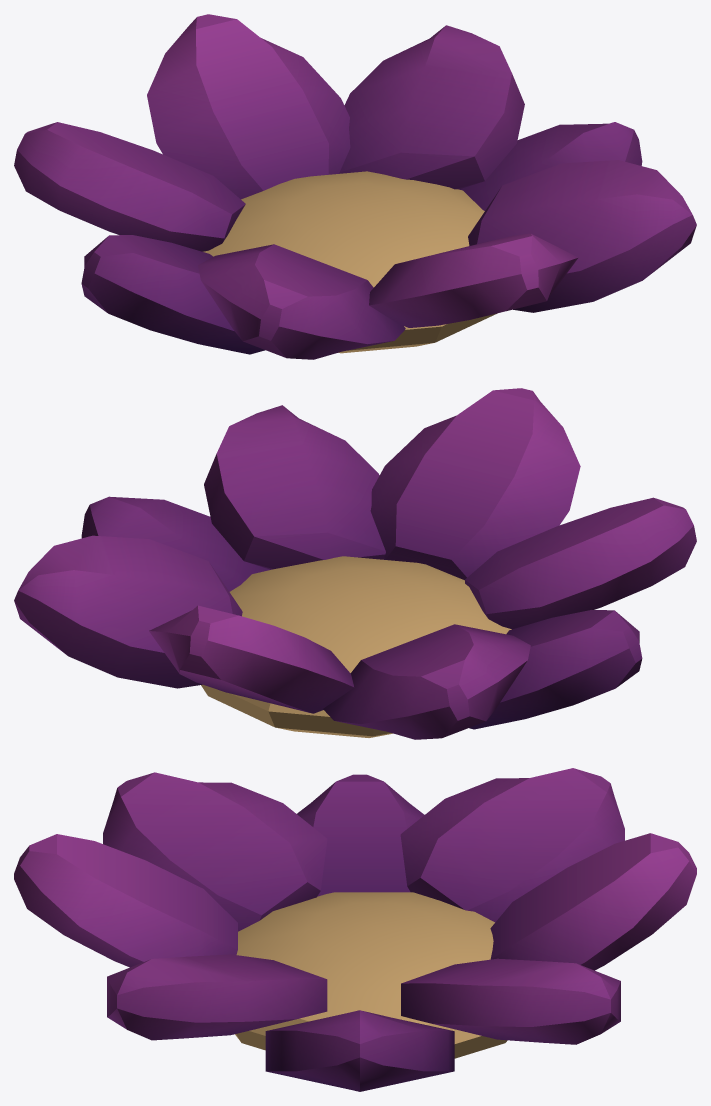
File: FlorMorada_2_elementosDecorativos_T.fbx
3 renders of one model, top to bottom at view 1: azimuth 30°, elevation 25°; view 2: azimuth 150°, elevation 25°; view 3: azimuth 270°, elevation 25°, orthographic.
Visible parts, largest first — view 1: Flor 1.003; view 2: Flor 1.003; view 3: Flor 1.003.
Part boxes in pixels (left/top/right/bottom): Flor 1.003: left=14, top=14, right=696, bottom=359; Flor 1.003: left=14, top=388, right=696, bottom=739; Flor 1.003: left=14, top=768, right=696, bottom=1091.
Bounding box in the file's own units: 680 × 225 × 721.
